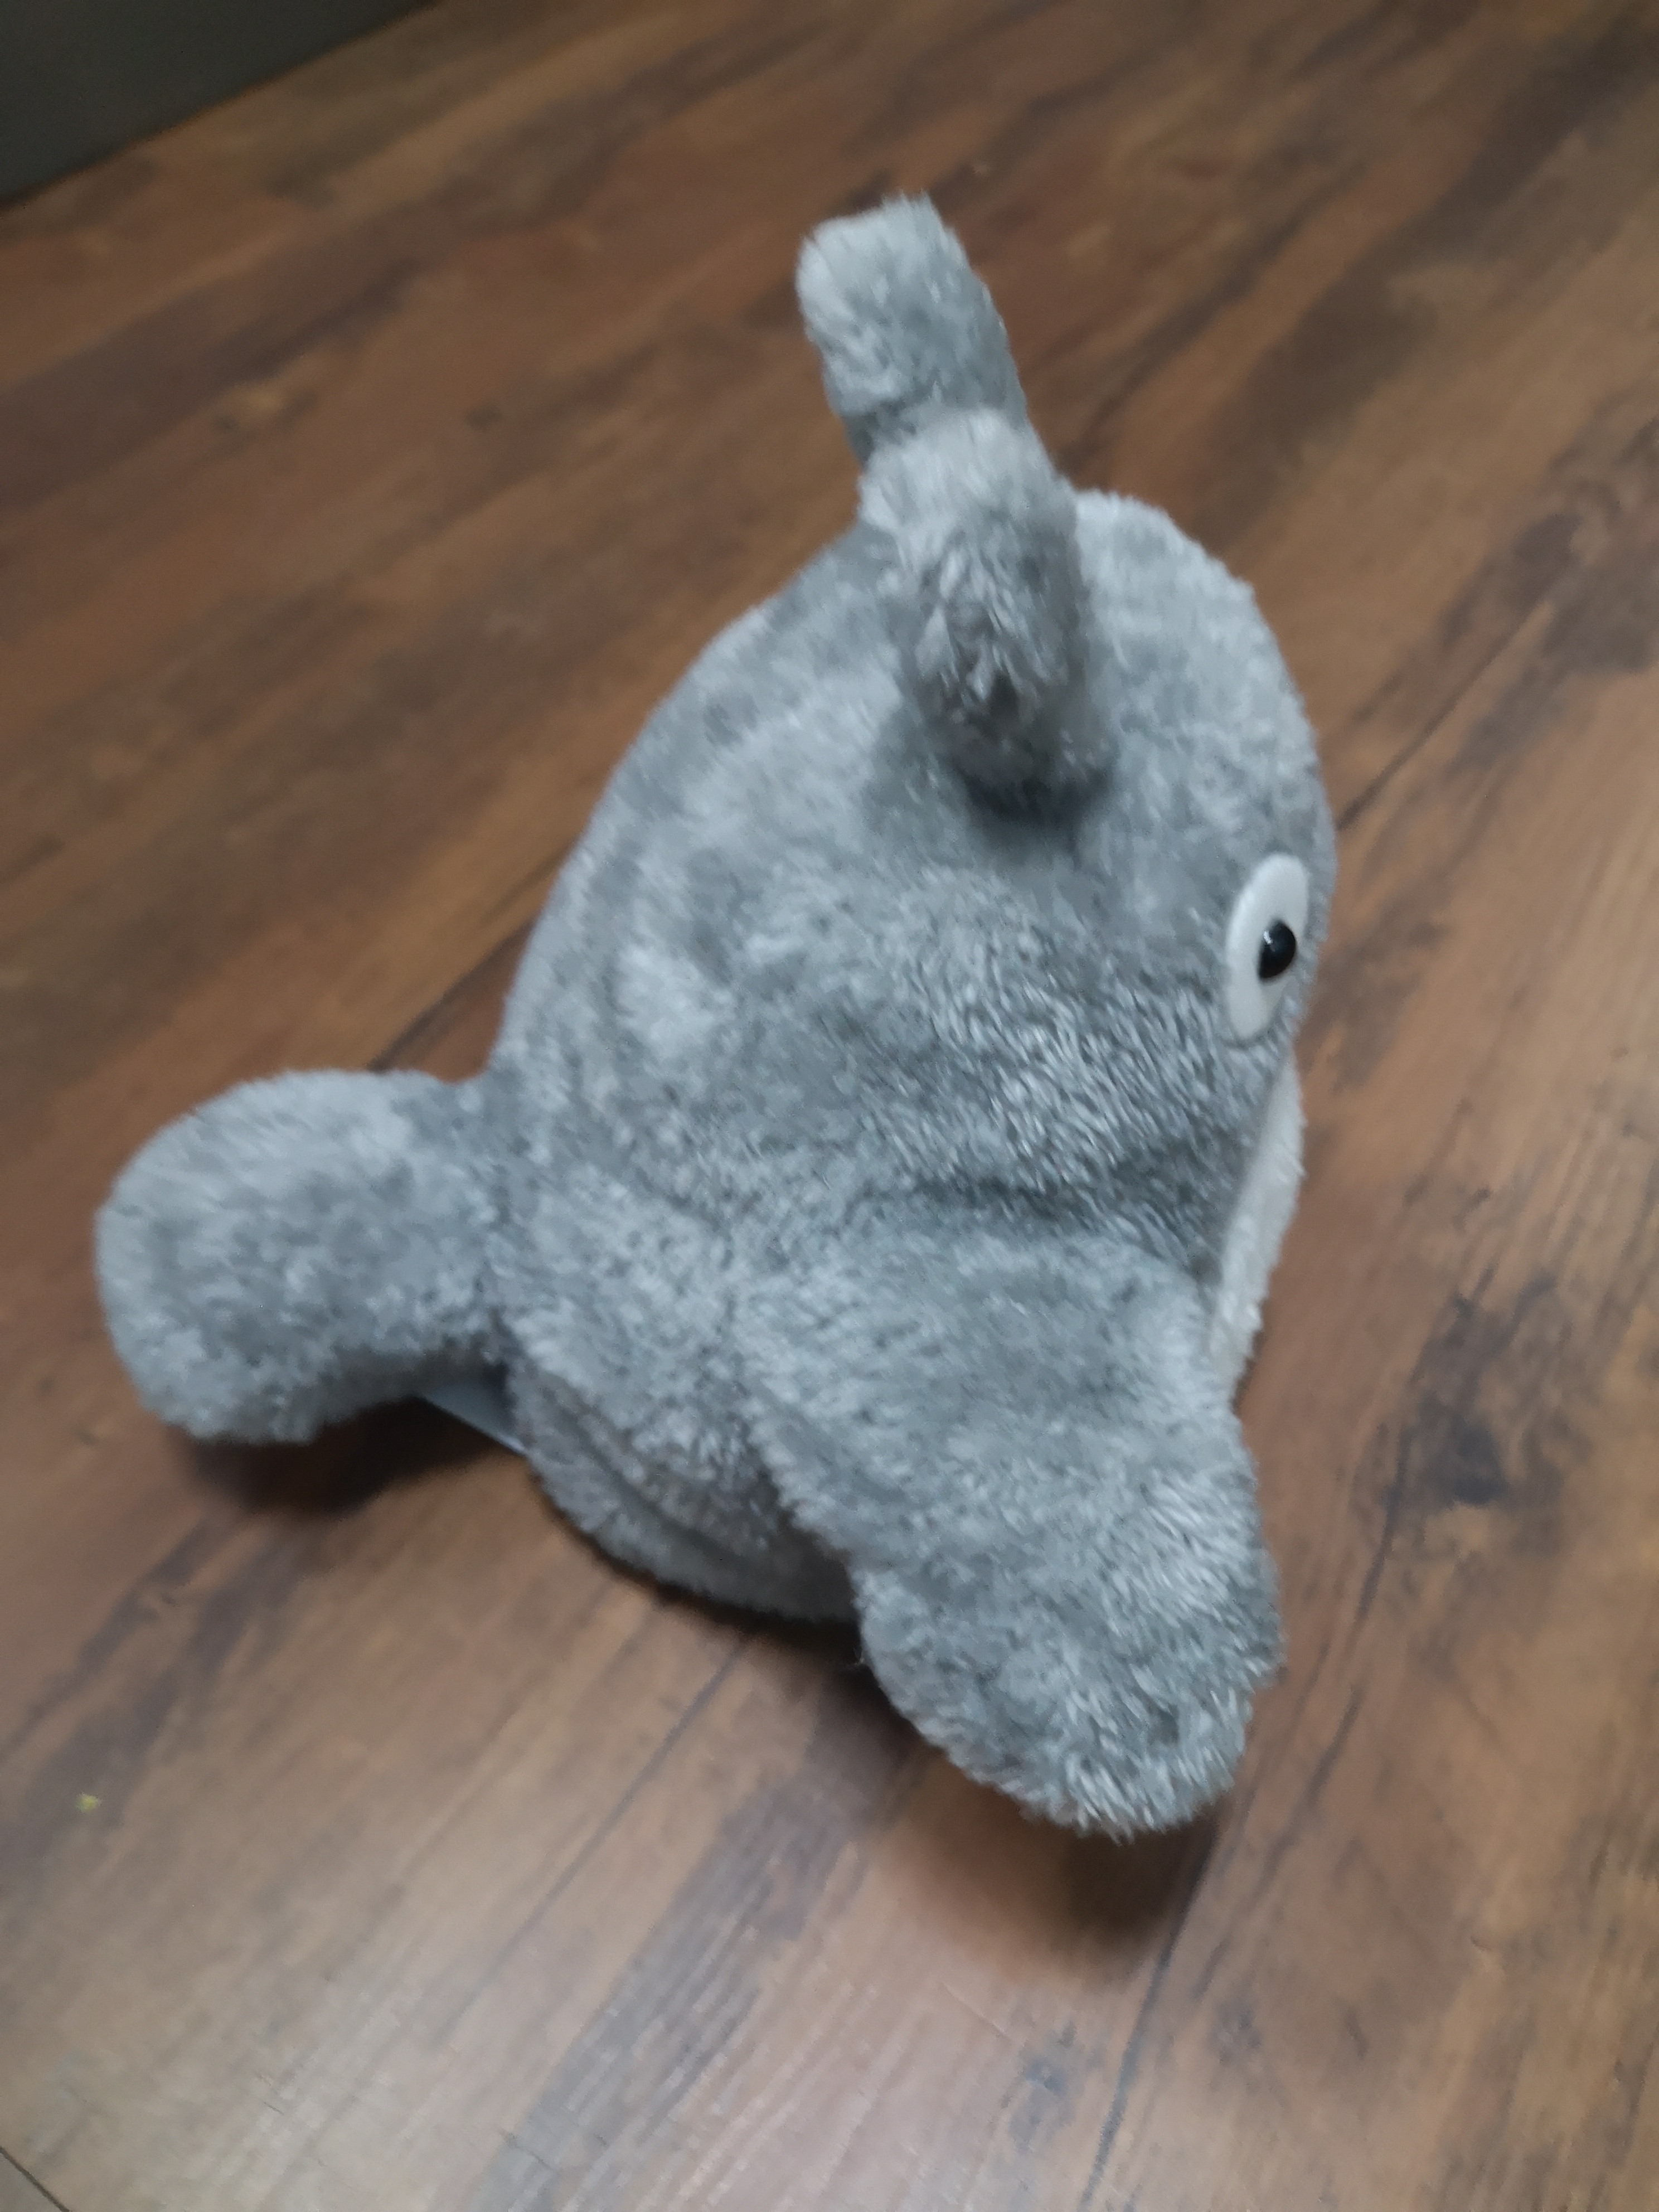totoro: (71, 179, 1356, 1867)
